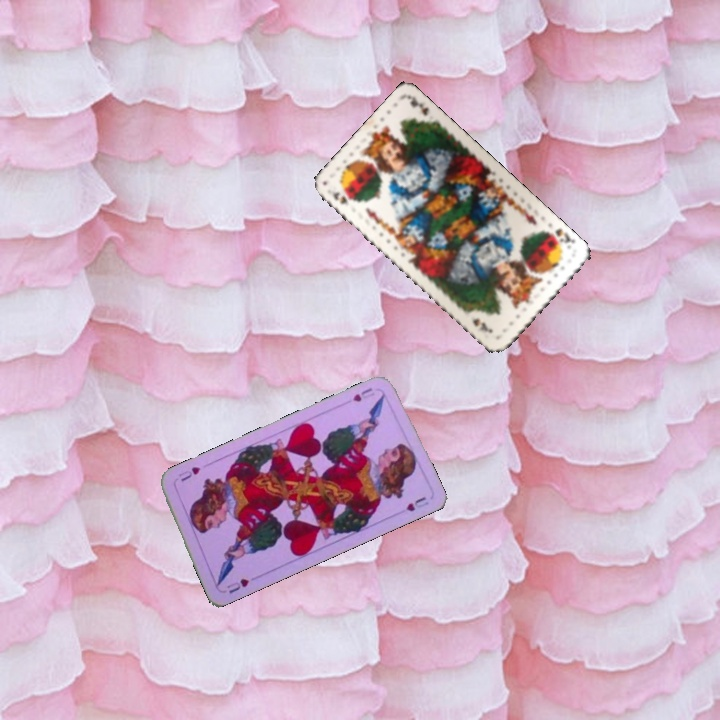HU: (220, 574, 252, 596), (349, 384, 377, 405)
SK: (541, 224, 577, 252), (329, 187, 353, 207)
